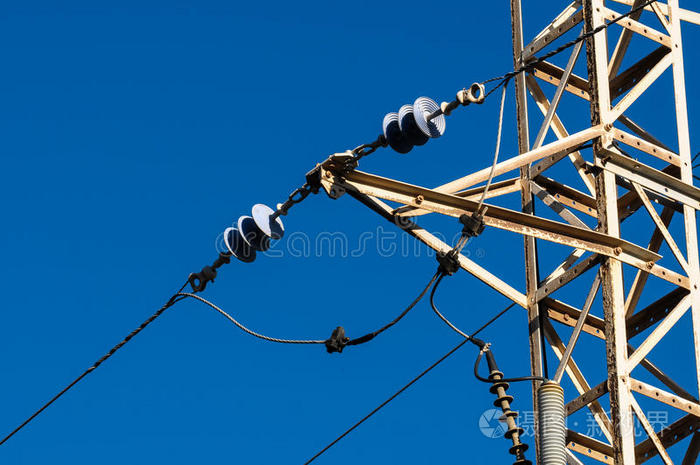insulator: (221, 203, 282, 264), (384, 96, 446, 155), (487, 380, 529, 465)
